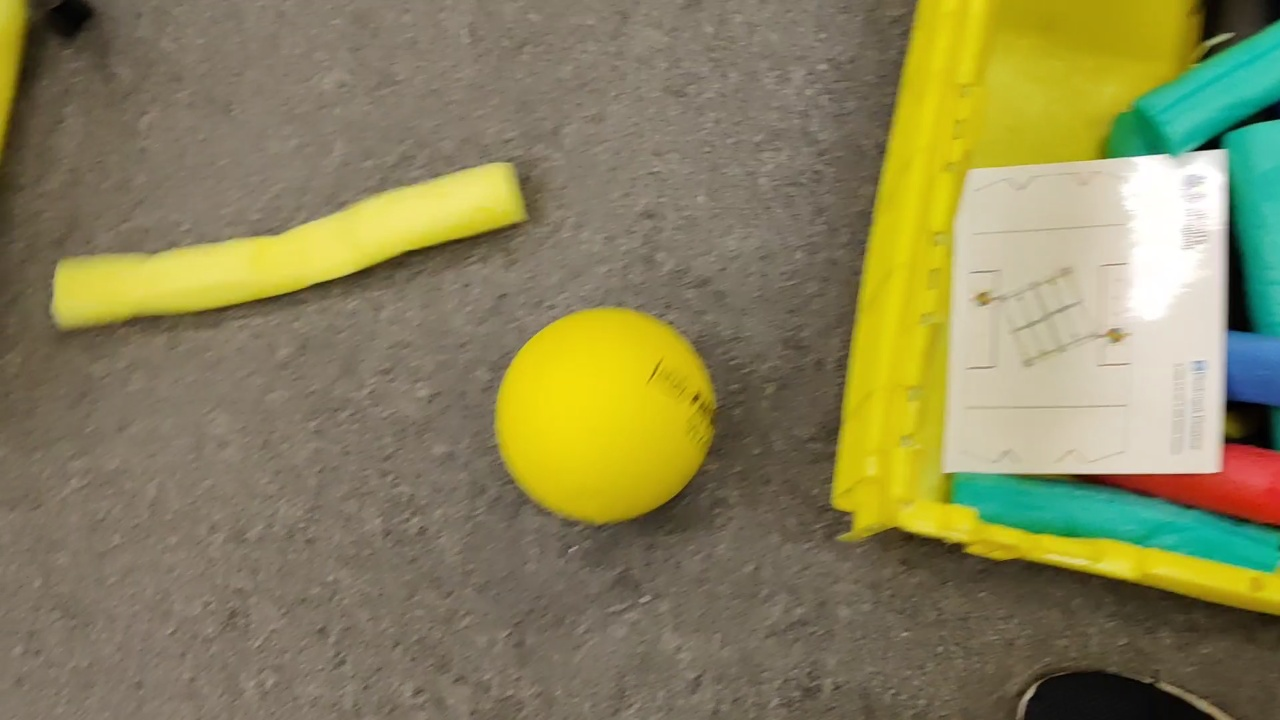Ball: (494, 303, 728, 522)
